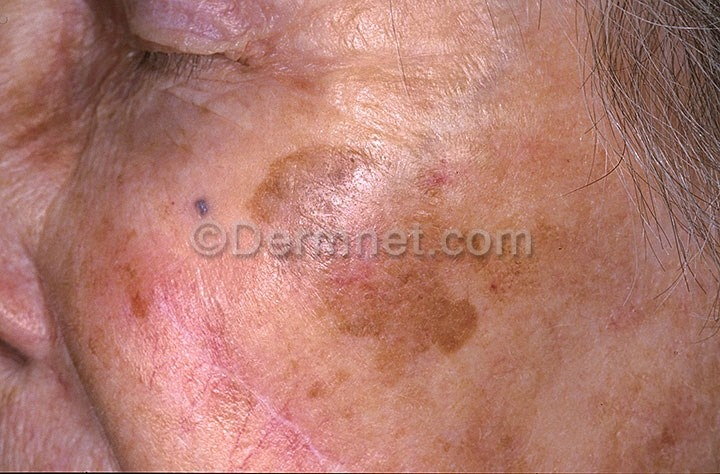Melasma: (5, 19, 210, 202), (226, 110, 469, 225), (268, 259, 502, 378), (203, 312, 315, 467), (95, 245, 188, 389)
